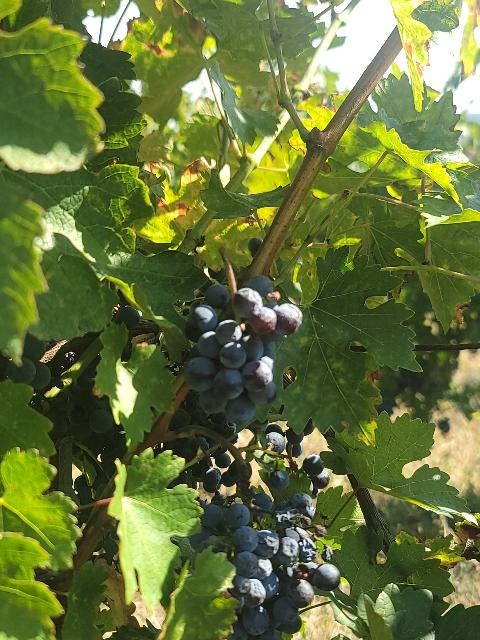grapes: (190, 494, 340, 640), (184, 276, 302, 424)
